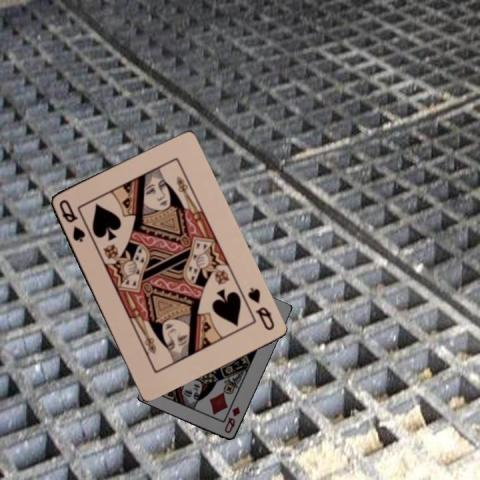Qd: (222, 398, 242, 434)
Qs: (55, 196, 87, 243), (244, 285, 275, 332)
